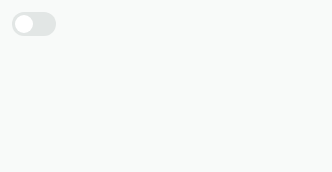
Test: forms › exposes switch state and supports search clearing
Later steps or results of the test are not shown.
Step 1. Click the switch named "启用连接" → (34, 24), box left=12, top=12, right=56, bottom=36
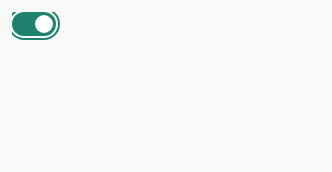
Expected: the switch named "启用连接" is checked, left=12, top=12, right=56, bottom=36
